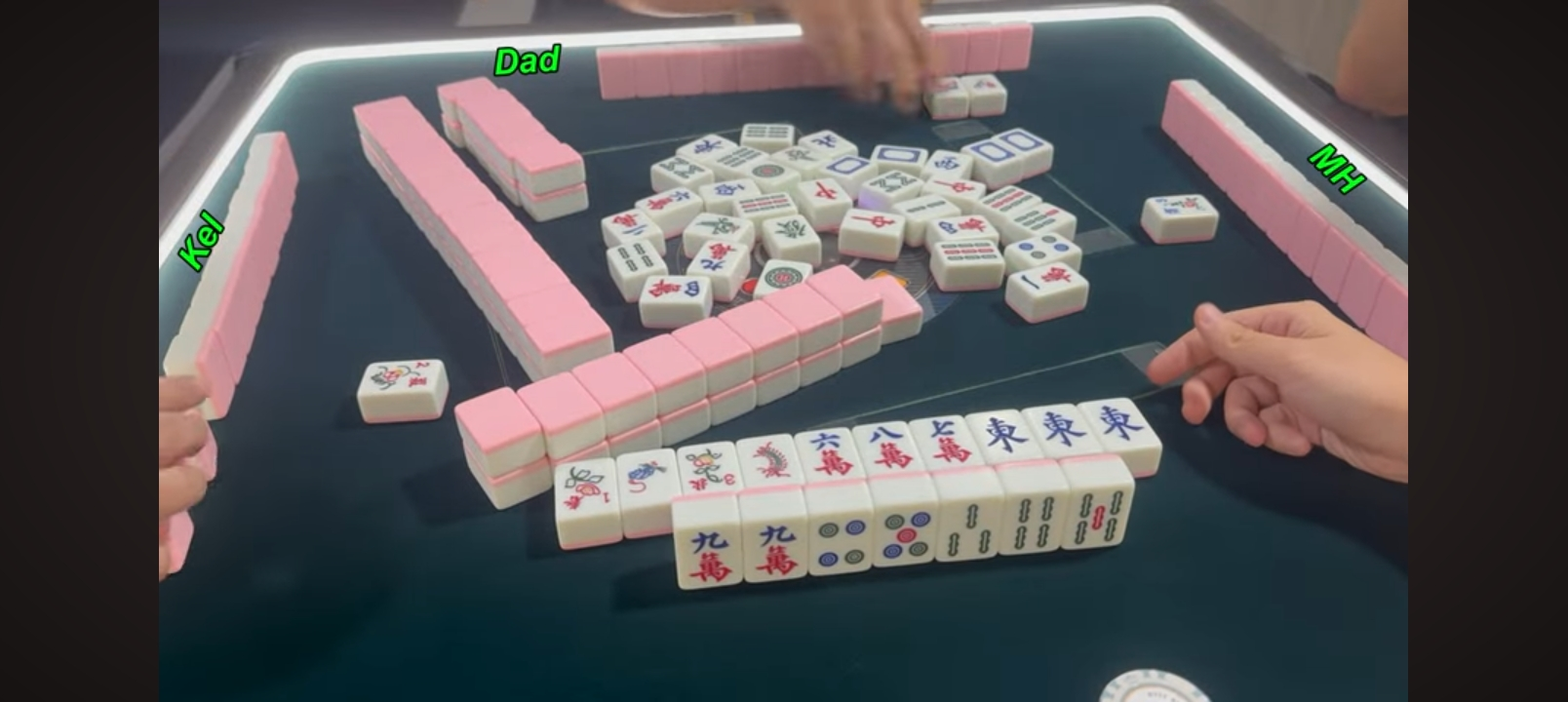TILE: (675, 525, 742, 588), (937, 499, 1004, 562), (806, 514, 874, 575), (1004, 493, 1070, 555), (1065, 488, 1133, 548), (742, 522, 806, 582), (874, 507, 939, 566), (556, 456, 617, 517), (616, 449, 680, 504), (1090, 400, 1163, 448), (858, 421, 921, 475), (741, 435, 802, 487), (679, 443, 742, 493), (916, 416, 980, 465), (800, 428, 860, 480), (974, 412, 1039, 460), (1030, 407, 1096, 453)
